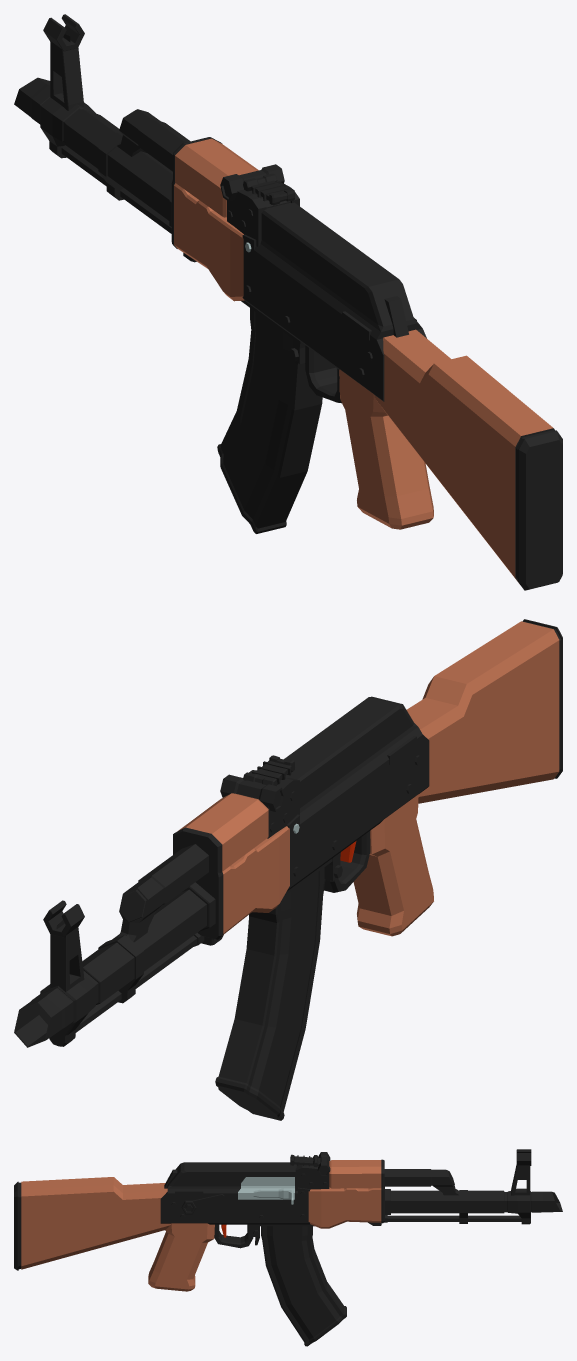
Rendered from wpn_ak47.glb.
The picture shows the model from 3 angles, top to bottom: view 1: azimuth 30°, elevation 25°; view 2: azimuth 150°, elevation 25°; view 3: azimuth 270°, elevation 25°; orthographic projection. The views are drawn at different scales.
Parts seen in each view (by area): view 1: Cube.024; view 2: Cube.024; view 3: Cube.024.
Part boxes in pixels (x1=…): Cube.024: x1=14, y1=14, x2=562, y2=590; Cube.024: x1=14, y1=619, x2=562, y2=1120; Cube.024: x1=14, y1=1149, x2=562, y2=1346.
Bounding box in the file's own units: 200 × 863 × 2248.
